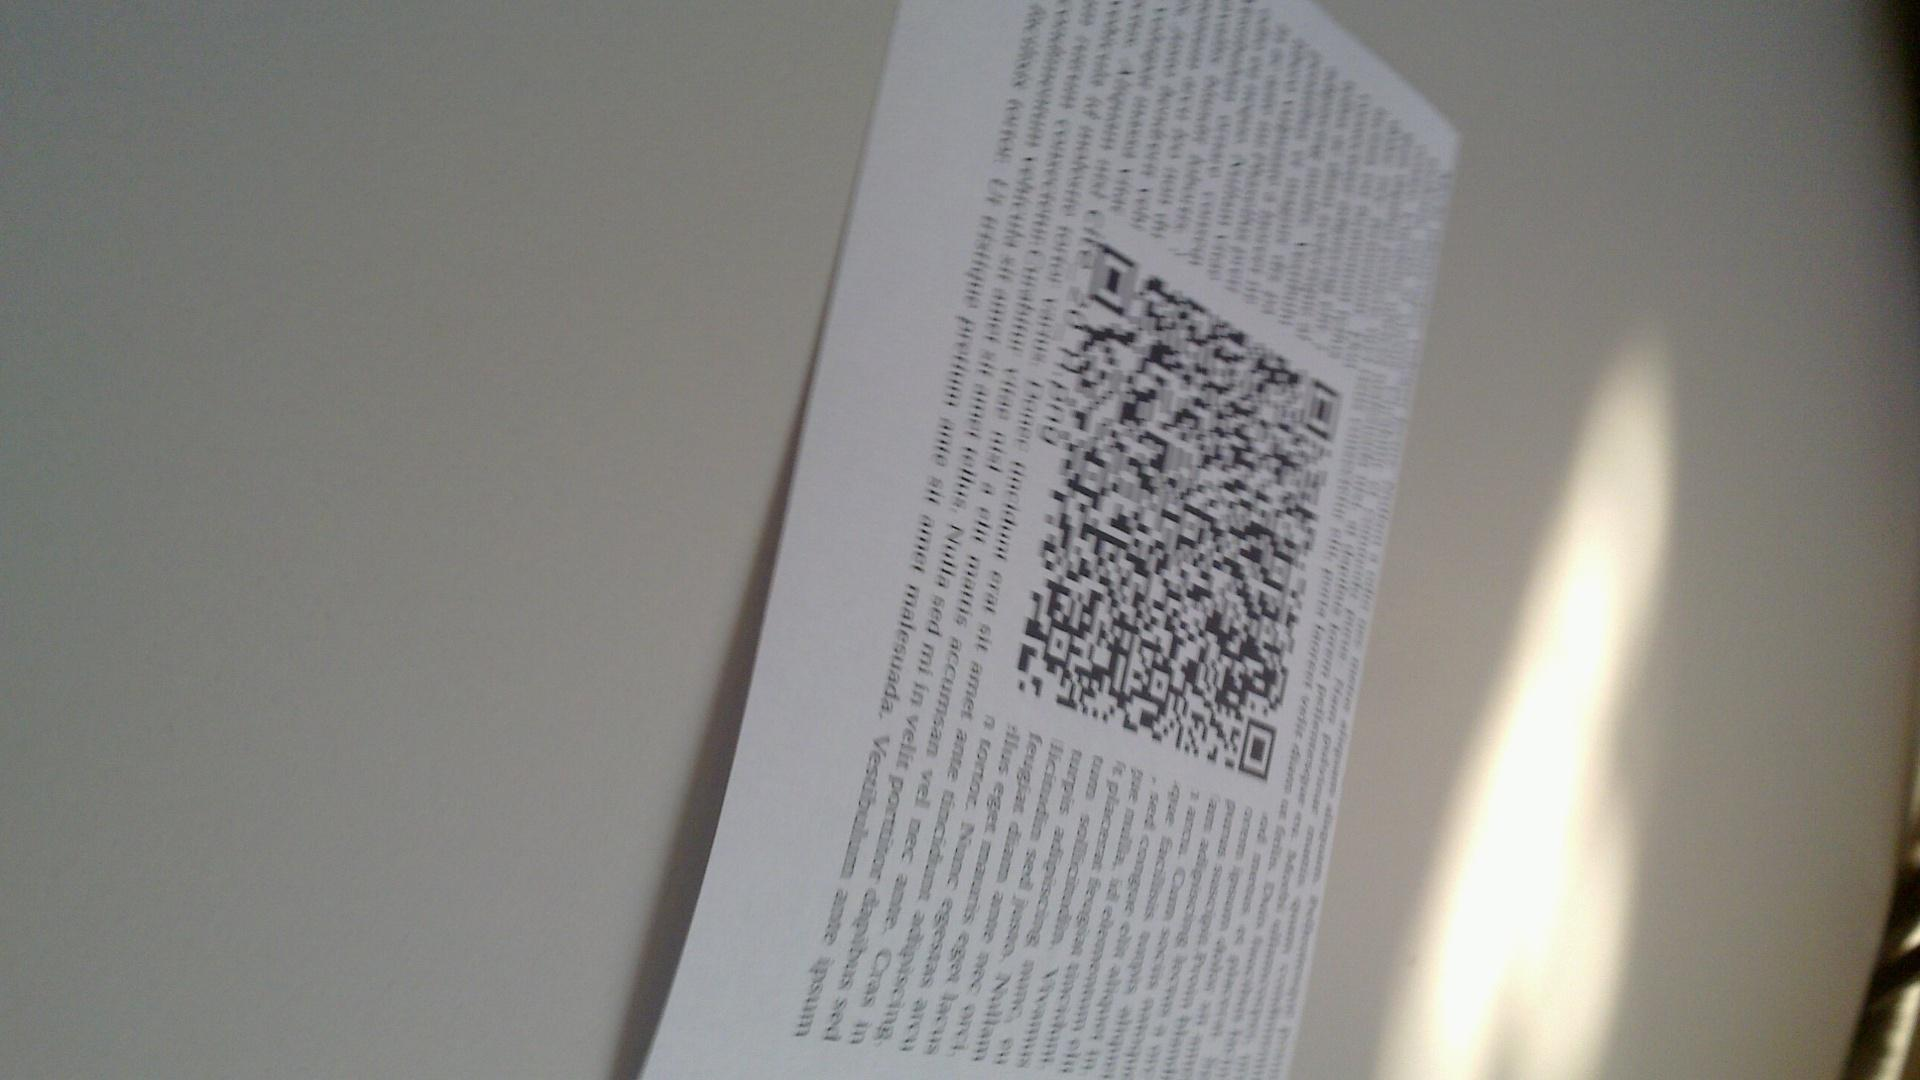Finder pattern: (1088, 236, 1141, 318), (1303, 373, 1342, 444), (1237, 712, 1276, 781)
